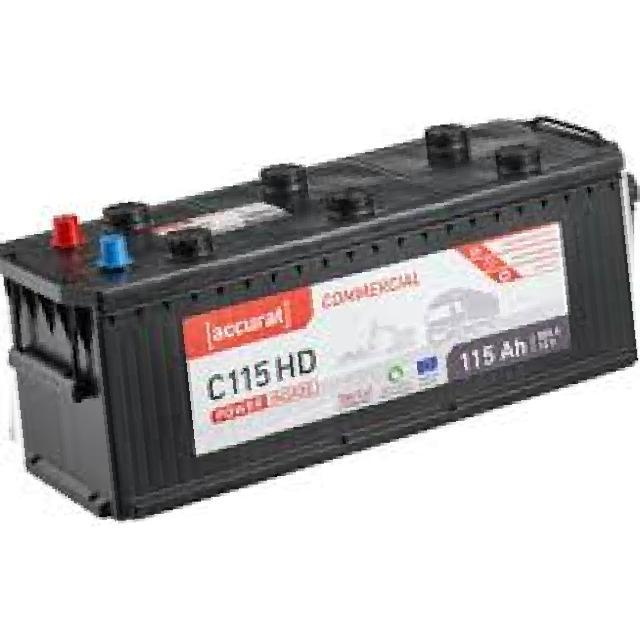Battery: (0, 95, 638, 531)
